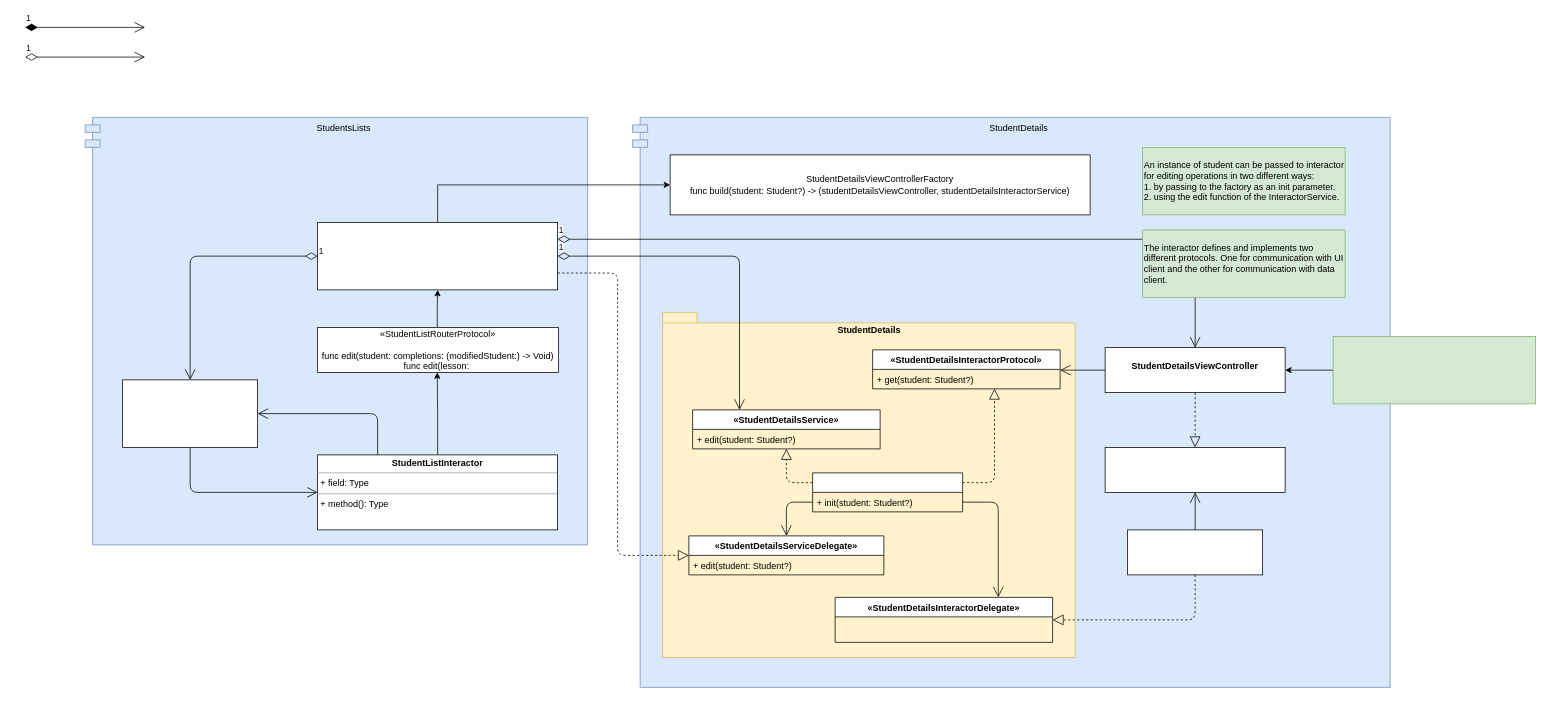
Some shapes in this 1549 by 701 pixel diagram are drawn without their labels. Each missing label, with the box of its shape:
StudentDetailsInteractor: (812, 472, 963, 512)
StudentDetailsPresenter: (1127, 529, 1263, 575)
StudentDetailsPresenterDelegate: (1104, 447, 1285, 492)
StudentListRouter func edit(student: completions: (modifiedStudent:) -> Void): (317, 222, 558, 290)
StudentListViewController + field: Type + method(): Type: (122, 379, 258, 447)
View controller can get student on view will appear event to show it.: (1332, 336, 1536, 404)
